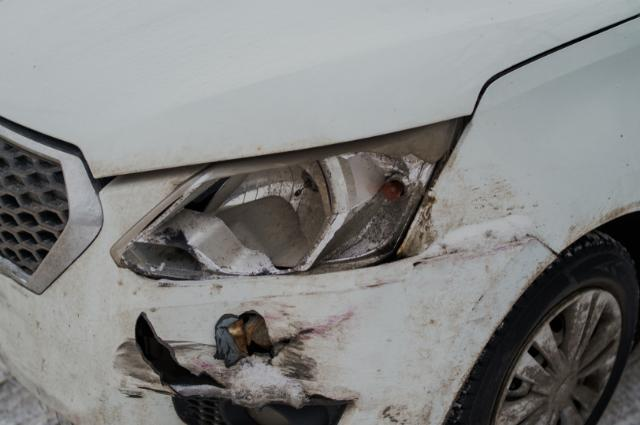Fender: (0, 104, 640, 425)
Light: (104, 113, 480, 284)
